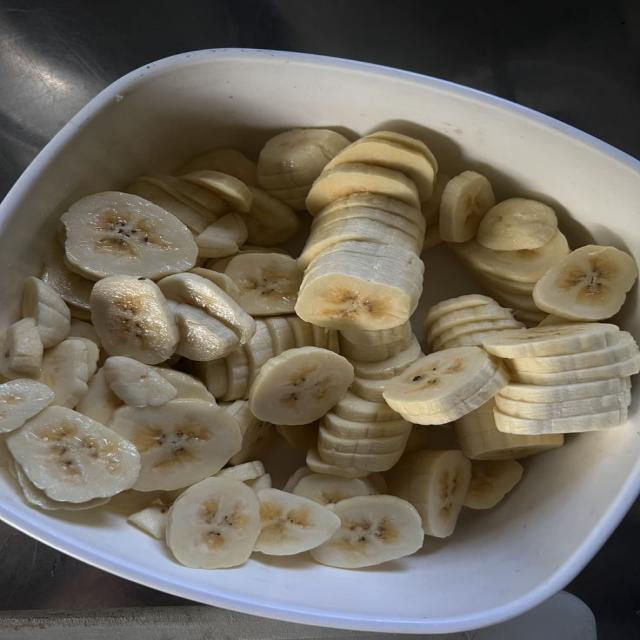banana slice: (7, 407, 140, 502), (61, 192, 197, 279), (110, 400, 241, 490), (296, 242, 424, 330), (383, 347, 508, 424), (167, 478, 259, 568), (312, 496, 423, 568), (249, 348, 353, 424), (91, 275, 179, 364), (534, 245, 638, 320), (258, 129, 349, 210), (325, 134, 435, 200), (387, 451, 471, 537), (159, 273, 254, 345), (455, 399, 563, 459), (298, 218, 423, 269), (403, 366, 508, 424), (451, 231, 569, 282), (306, 164, 419, 215), (254, 489, 340, 555), (508, 332, 638, 373), (127, 177, 215, 234), (312, 194, 426, 237), (456, 414, 563, 459), (225, 254, 302, 316), (483, 323, 619, 358), (13, 462, 110, 510), (313, 192, 426, 232), (139, 173, 229, 223), (168, 301, 239, 361), (476, 198, 557, 250), (40, 338, 99, 408), (495, 391, 631, 420), (440, 171, 495, 242), (512, 355, 639, 385), (494, 407, 626, 435), (104, 357, 177, 407), (426, 302, 515, 341), (500, 377, 630, 403), (23, 277, 70, 348), (241, 188, 299, 245), (339, 321, 415, 364), (223, 400, 273, 465), (41, 255, 93, 317), (351, 335, 423, 379), (427, 319, 524, 350), (367, 131, 438, 173), (178, 149, 258, 186), (181, 171, 253, 212), (0, 379, 54, 433), (464, 460, 523, 509), (423, 294, 495, 333), (75, 368, 123, 426), (319, 425, 409, 455), (164, 175, 228, 217), (293, 474, 379, 505), (0, 318, 43, 379), (321, 410, 411, 439), (195, 213, 247, 258), (326, 391, 399, 422), (154, 368, 215, 403), (318, 447, 402, 472), (244, 320, 275, 386), (421, 172, 451, 236), (307, 448, 370, 478), (340, 322, 413, 347), (189, 267, 239, 300), (127, 500, 169, 539), (220, 348, 249, 401), (491, 289, 545, 317), (474, 272, 534, 296), (439, 329, 511, 349), (194, 359, 227, 399), (264, 316, 297, 354), (276, 421, 318, 450), (266, 185, 310, 210), (350, 376, 389, 402), (215, 461, 265, 481), (68, 319, 101, 349), (404, 425, 433, 456), (283, 466, 313, 492), (422, 224, 443, 250), (514, 310, 544, 328), (237, 244, 287, 254), (246, 474, 272, 493), (367, 473, 387, 494), (538, 314, 573, 326), (312, 325, 329, 349), (327, 330, 341, 354)
